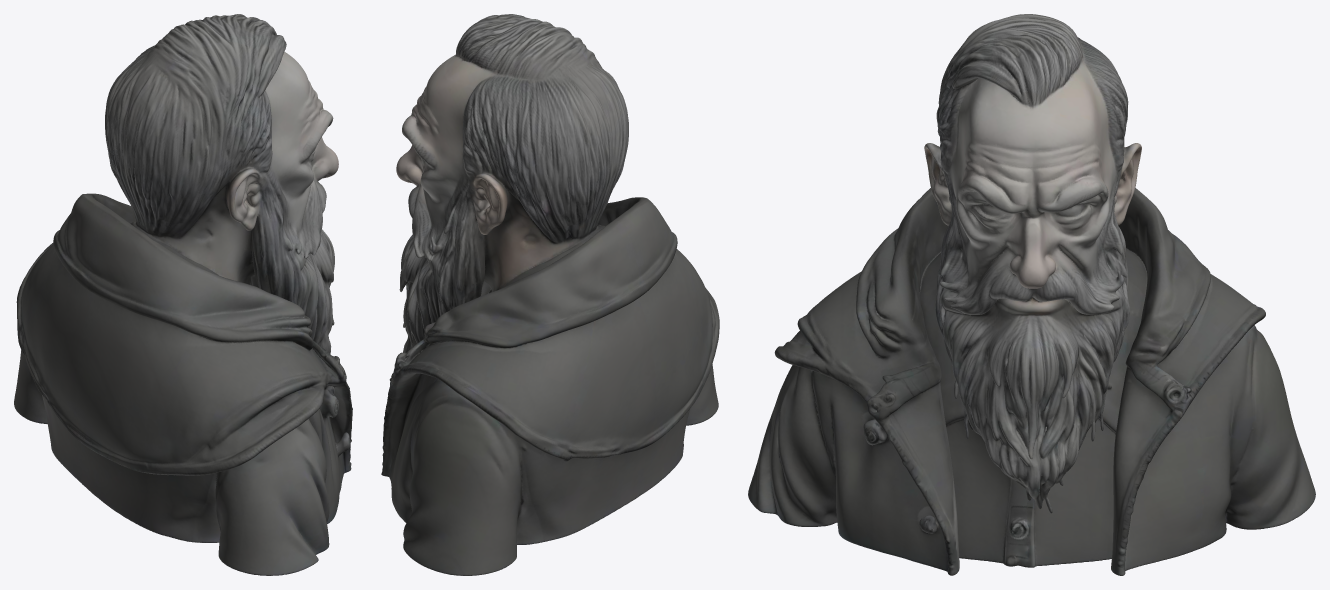
Rendered from detailed_realistic_model_portrait_02.glb.
The picture shows the model from 3 angles, left to right: view 1: azimuth 30°, elevation 25°; view 2: azimuth 150°, elevation 25°; view 3: azimuth 270°, elevation 25°; orthographic projection. The views are drawn at different scales.
Parts seen in each view (by area): view 1: tripo_node_c51bec56-e0a8-4901-9cb5-03980d7d308b; view 2: tripo_node_c51bec56-e0a8-4901-9cb5-03980d7d308b; view 3: tripo_node_c51bec56-e0a8-4901-9cb5-03980d7d308b.
Part boxes in pixels (x1,y1,x2,y2): tripo_node_c51bec56-e0a8-4901-9cb5-03980d7d308b: (14, 14, 352, 575); tripo_node_c51bec56-e0a8-4901-9cb5-03980d7d308b: (381, 14, 719, 575); tripo_node_c51bec56-e0a8-4901-9cb5-03980d7d308b: (748, 14, 1315, 575).
Bounding box in the file's own units: 0.5896 × 0.9635 × 1.
1 material, 1 textured.
